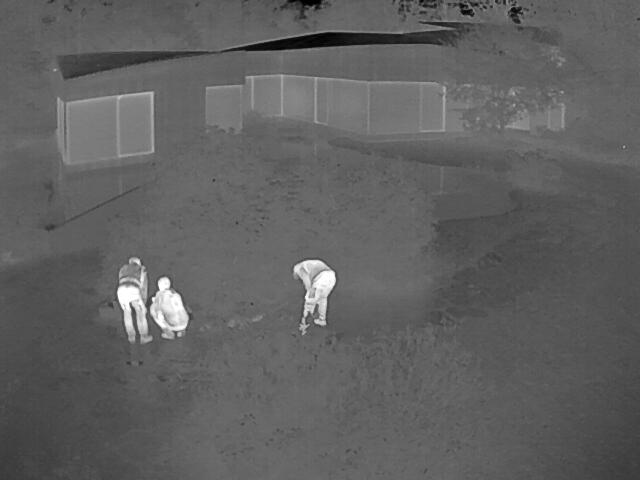person: (290, 259, 335, 329), (115, 256, 152, 341), (149, 276, 187, 337)
